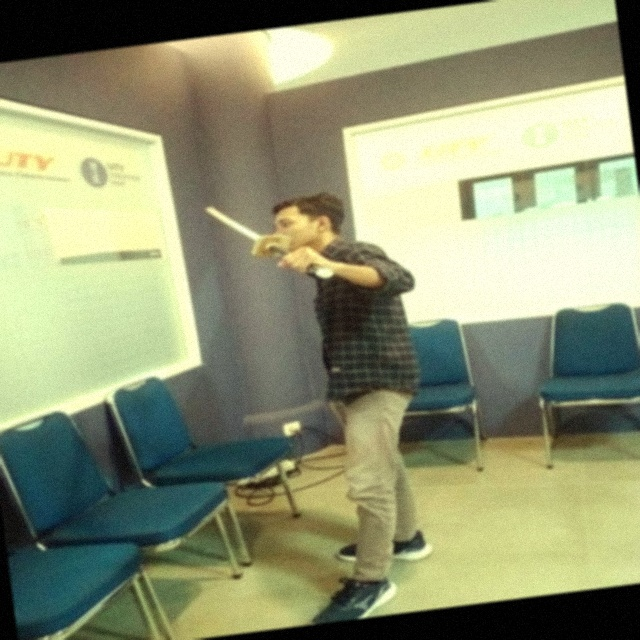Sharp-Object: (190, 182, 342, 306)
